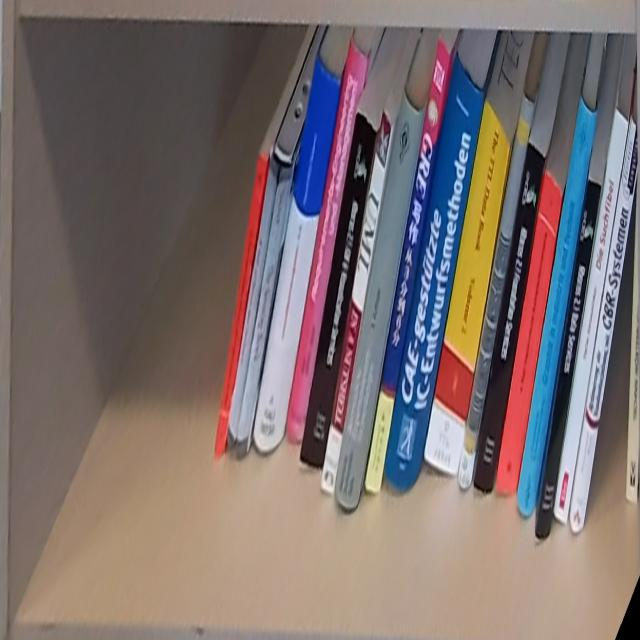Book Spine: (385, 45, 488, 495), (362, 35, 453, 497), (336, 83, 427, 510), (251, 47, 343, 455), (517, 97, 601, 518), (286, 44, 370, 442), (425, 96, 513, 471), (458, 88, 536, 491), (556, 105, 631, 519), (569, 120, 639, 538), (300, 111, 376, 475), (322, 109, 393, 493), (535, 173, 604, 541), (475, 140, 546, 494), (495, 172, 562, 492), (213, 153, 269, 463), (236, 167, 295, 461), (227, 154, 279, 455), (626, 176, 640, 504)
